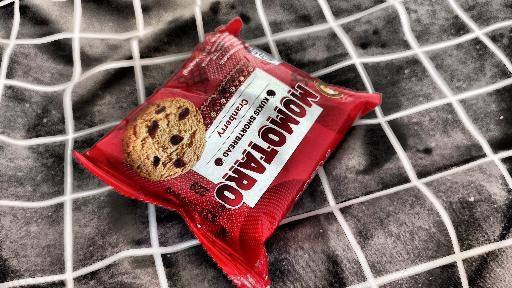momotaro: (90, 7, 383, 275)
